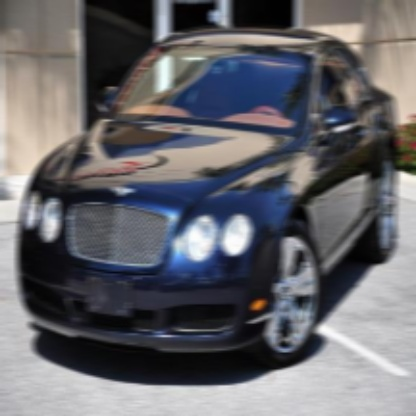Vehicle: (14, 26, 400, 382)
